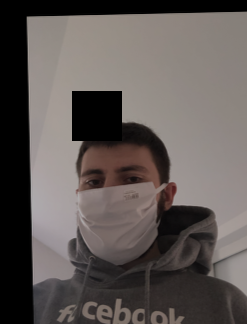with_mask: (76, 159, 162, 266)
